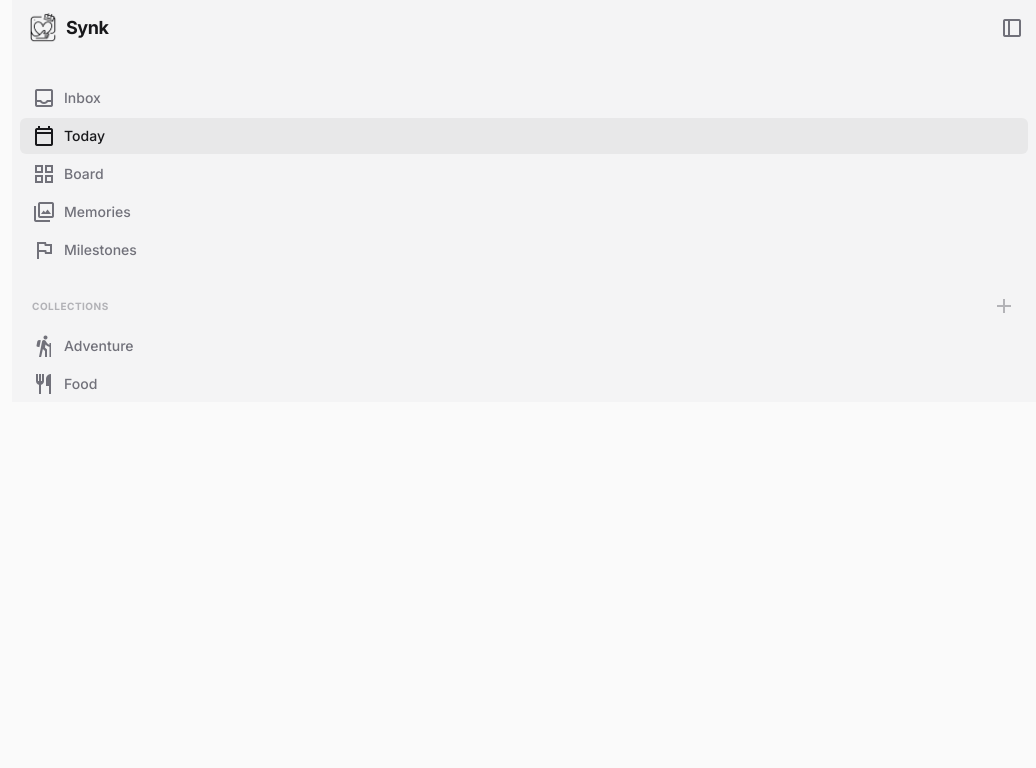
it: Sidebar › closes context menu when clicking outside
Right-click the element "Adventure".
right_click(83, 346)  # box [32,332,134,360]
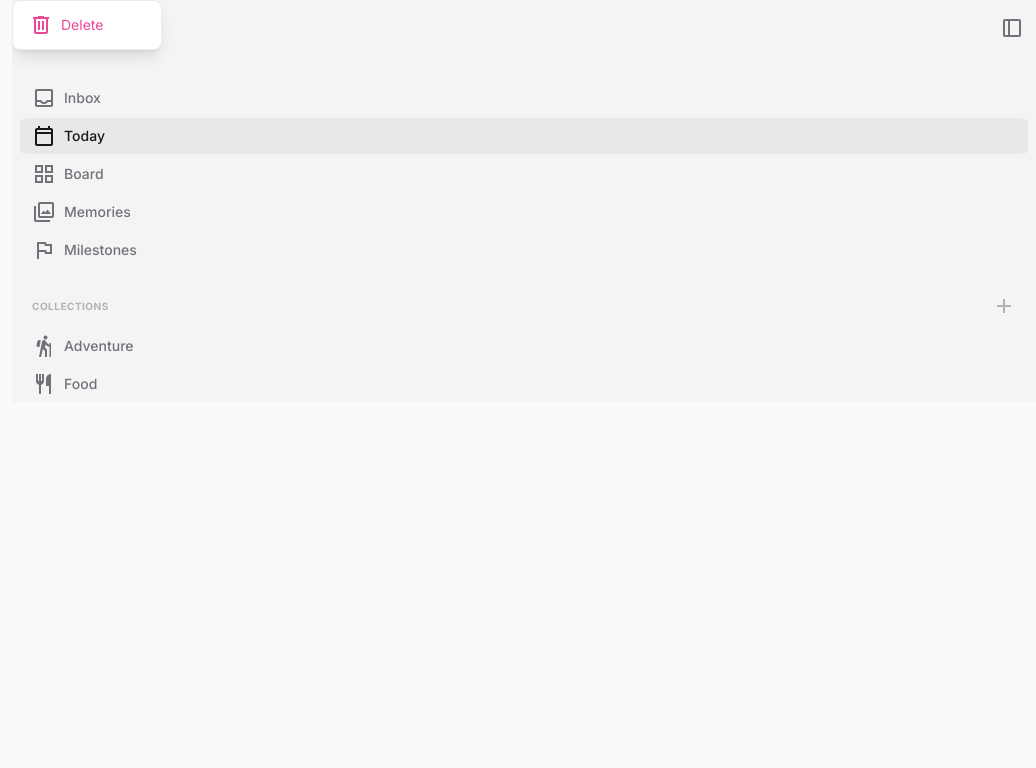
Result: the element with class "z-40" is shown
Click the element with class "z-40".
click(524, 384)  # box [12,0,1035,767]
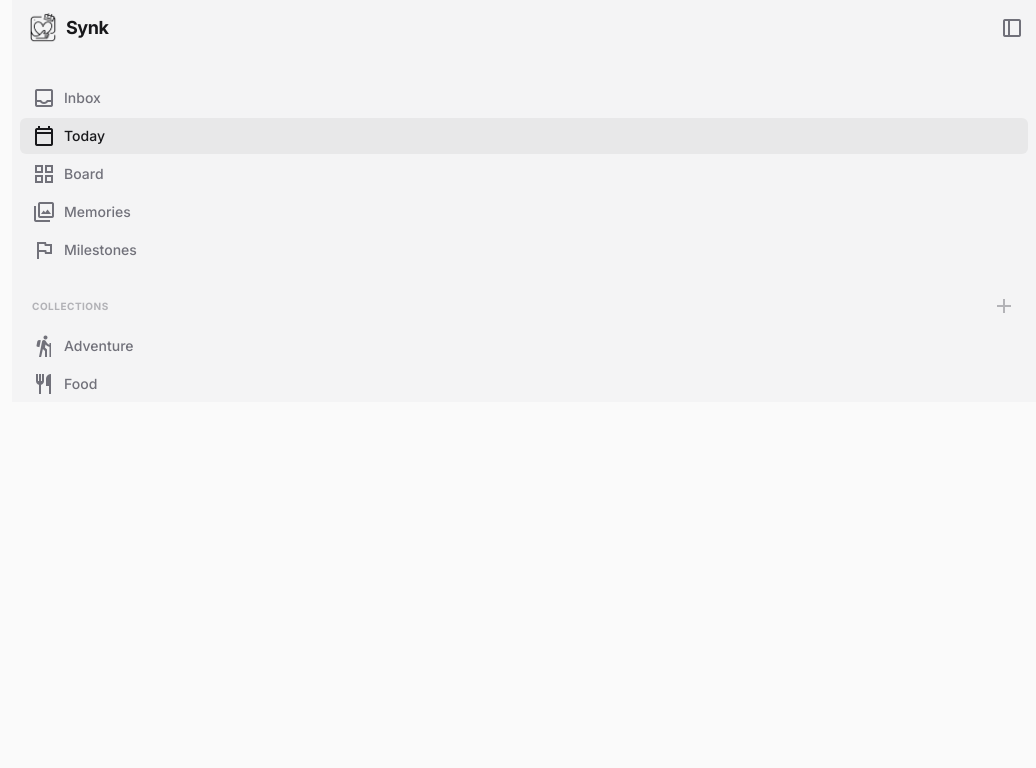
Result: the element with class "z-40" is gone
